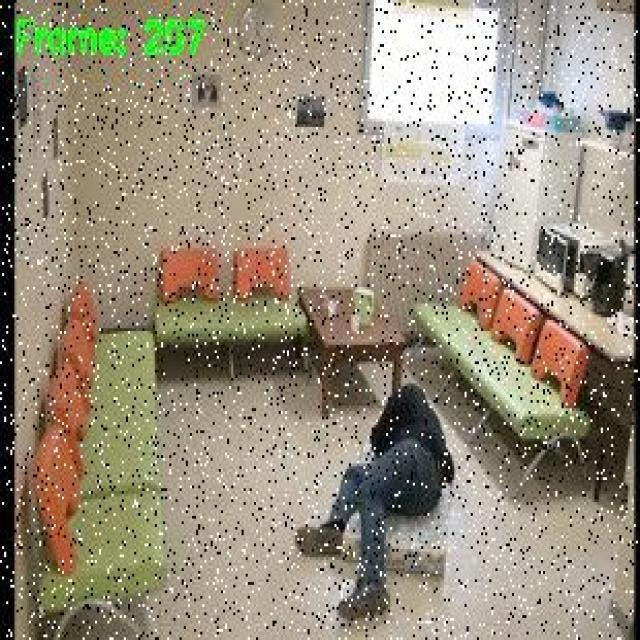fall: (292, 374, 451, 625)
